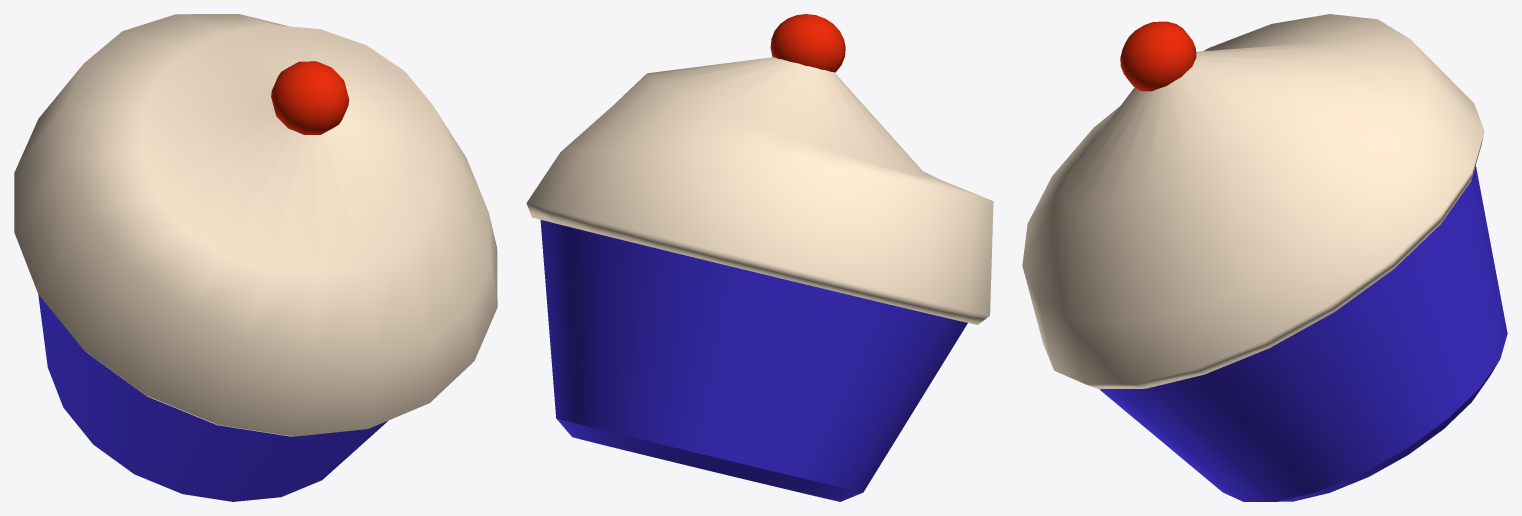
File: Pancake.fbx
The picture shows the model from 3 angles, left to right: view 1: azimuth 30°, elevation 25°; view 2: azimuth 150°, elevation 25°; view 3: azimuth 270°, elevation 25°; orthographic projection. The views are drawn at different scales.
Visible parts, largest first — view 1: Object_24; view 2: Object_24; view 3: Object_24.
Boxes of the visible parts, x1,y1,x2,y2 form: Object_24: (14, 14, 497, 501); Object_24: (526, 14, 993, 501); Object_24: (1022, 14, 1507, 501).
Size of the model in its own units: 168 by 169 by 164.
